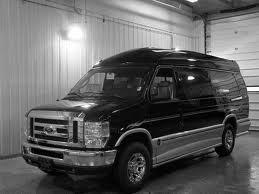car: (25, 48, 252, 189)
